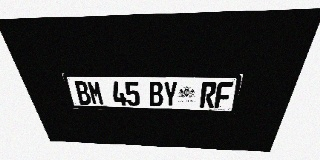4: (110, 81, 127, 106)
5: (124, 81, 141, 106)
B: (73, 81, 92, 105), (148, 81, 163, 107)
F: (214, 82, 233, 108)
M: (86, 81, 105, 105)
R: (200, 82, 217, 108)
Y: (163, 82, 178, 107)
